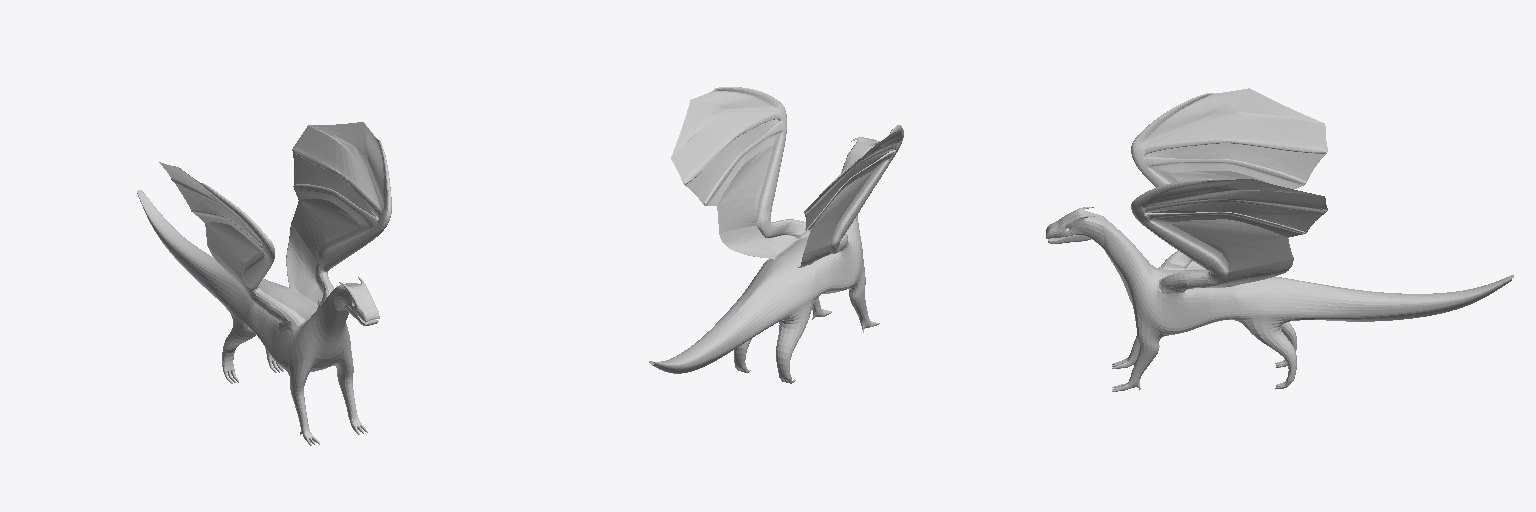
The model's file is Dragon2.obj.
3 renders of one model, left to right at view 1: azimuth 30°, elevation 25°; view 2: azimuth 150°, elevation 25°; view 3: azimuth 270°, elevation 25°, orthographic.
Visible parts, largest first — view 1: Body_Cube.001, Skull_Cube.002; view 2: Body_Cube.001; view 3: Body_Cube.001, Skull_Cube.002.
Part boxes in pixels (x1,y1,x2,y2): Body_Cube.001: (137,122,391,445); Skull_Cube.002: (334,277,379,321); Body_Cube.001: (649,87,903,383); Body_Cube.001: (1103,88,1513,391); Skull_Cube.002: (1046,207,1104,247).
Bounding box in the file's own units: 5.83 × 7.39 × 12.79.